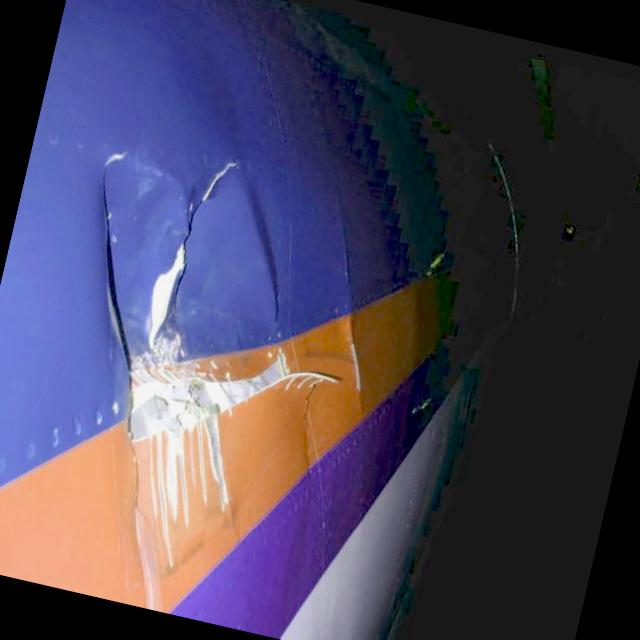crack: (136, 146, 235, 364)
dent: (105, 162, 188, 278)
